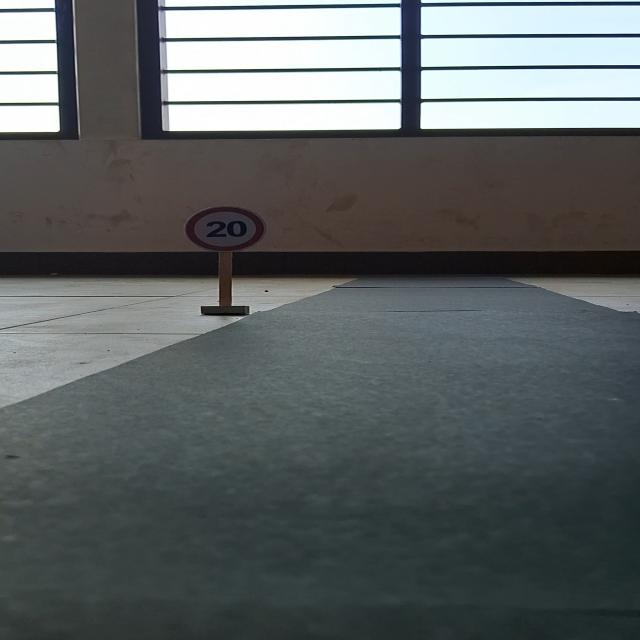Speed20: (177, 200, 273, 258)
